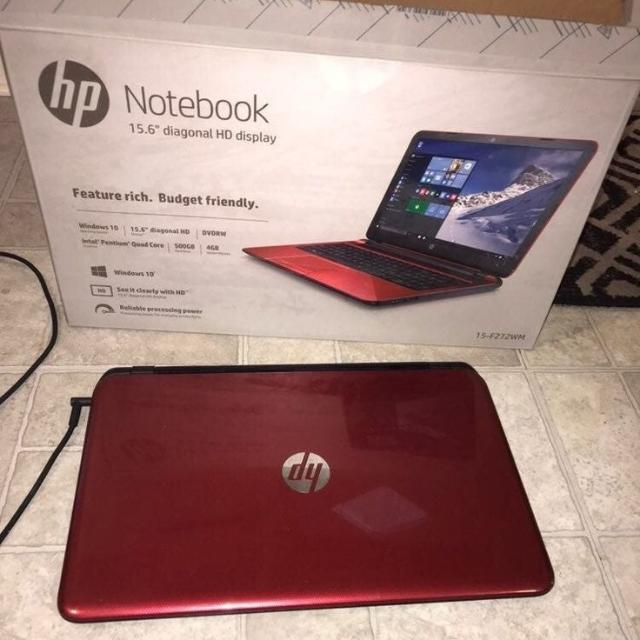laptop: (67, 362, 557, 616)
